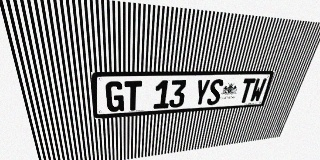1: (153, 80, 171, 109)
3: (169, 80, 187, 108)
G: (105, 81, 124, 112)
S: (206, 79, 224, 105)
T: (125, 81, 142, 111), (238, 78, 256, 103)
W: (249, 78, 267, 102)
Y: (193, 79, 211, 106)
